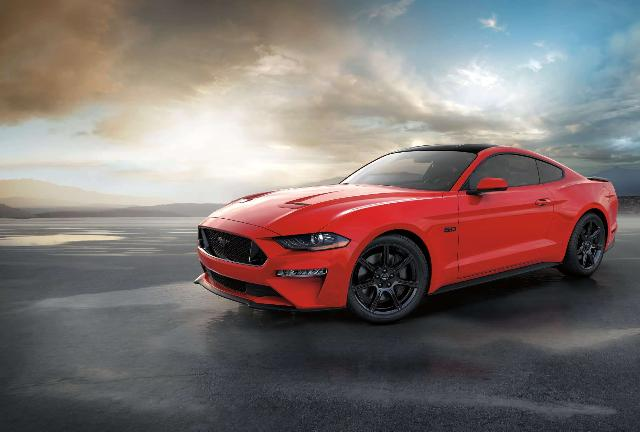ford-mustang: (192, 143, 620, 325)
